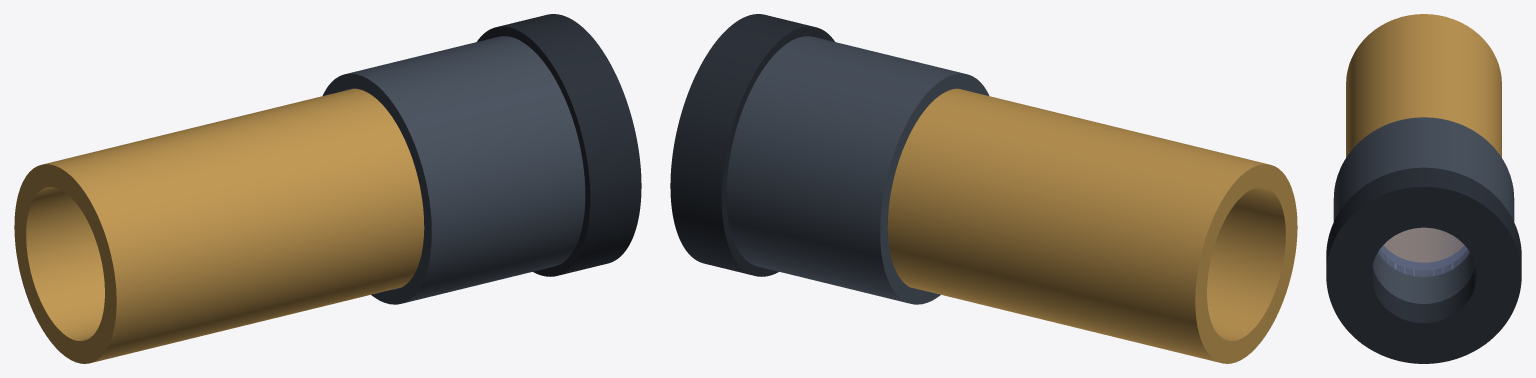
Rendered from telescope_focus_unit.glb.
The picture shows the model from 3 angles, left to right: view 1: azimuth 30°, elevation 25°; view 2: azimuth 150°, elevation 25°; view 3: azimuth 270°, elevation 25°; orthographic projection. The views are drawn at different scales.
Visible parts, largest first — view 1: telescope_focus_unit (×3); view 2: telescope_focus_unit (×3); view 3: telescope_focus_unit (×4).
Boxes of the visible parts, box(x1,y1,x2,y2) form: telescope_focus_unit (×3): box(14, 14, 641, 363); telescope_focus_unit (×3): box(670, 14, 1297, 363); telescope_focus_unit (×4): box(1326, 14, 1521, 363).
Size of the model in its own units: 0.12 by 0.052 by 0.052.
